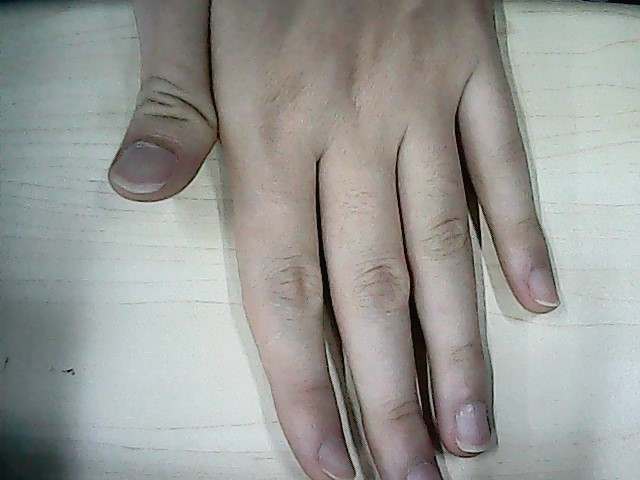nail: (118, 144, 170, 199), (454, 409, 492, 456), (528, 269, 562, 309), (320, 445, 355, 477)
